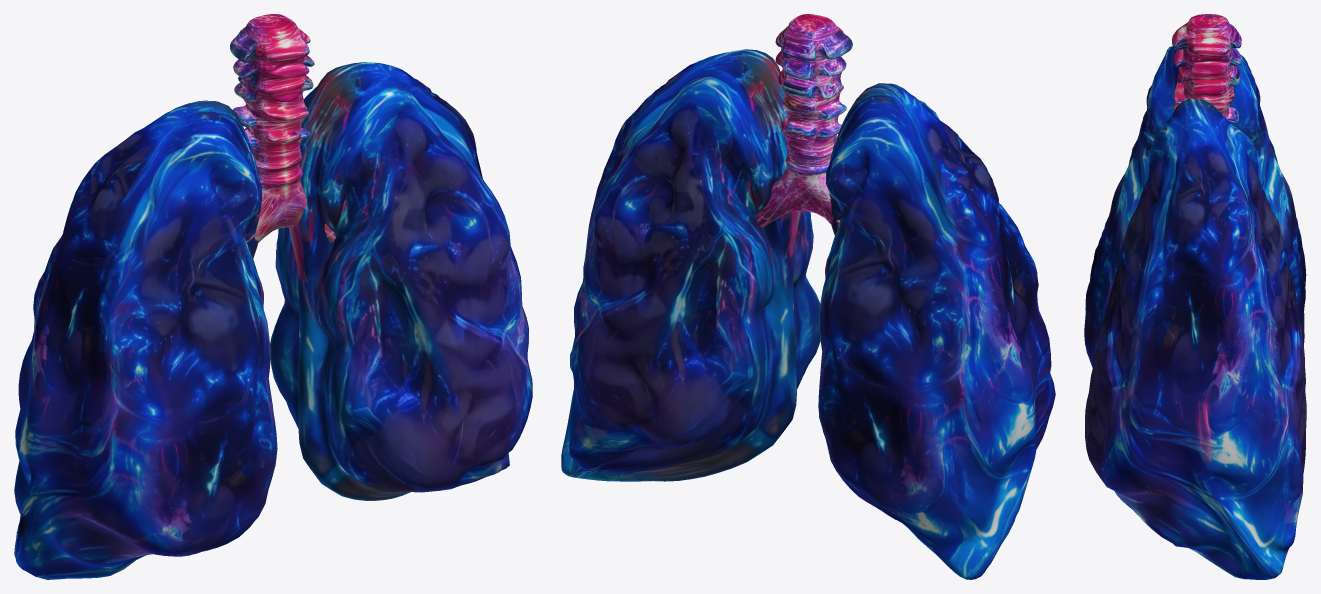
The model's file is poumons.glb.
3 views of the same model, side by side, from view 1: azimuth 30°, elevation 25°; view 2: azimuth 150°, elevation 25°; view 3: azimuth 270°, elevation 25° (orthographic). The views are drawn at different scales.
Visible parts, largest first — view 1: tripo_node_53a9015b001, tripo_node_5f6c3f2e001; view 2: tripo_node_53a9015b001, tripo_node_5f6c3f2e001; view 3: tripo_node_53a9015b001, tripo_node_5f6c3f2e001.
Part boxes in pixels (x1,y1,x2,y2): tripo_node_53a9015b001: [14, 62, 532, 579]; tripo_node_5f6c3f2e001: [230, 14, 335, 242]; tripo_node_53a9015b001: [561, 49, 1055, 579]; tripo_node_5f6c3f2e001: [756, 14, 852, 229]; tripo_node_53a9015b001: [1084, 46, 1306, 579]; tripo_node_5f6c3f2e001: [1172, 14, 1241, 124].
Bounding box in the file's own units: 3856 × 4021 × 1726.
2 materials, 2 textured.
